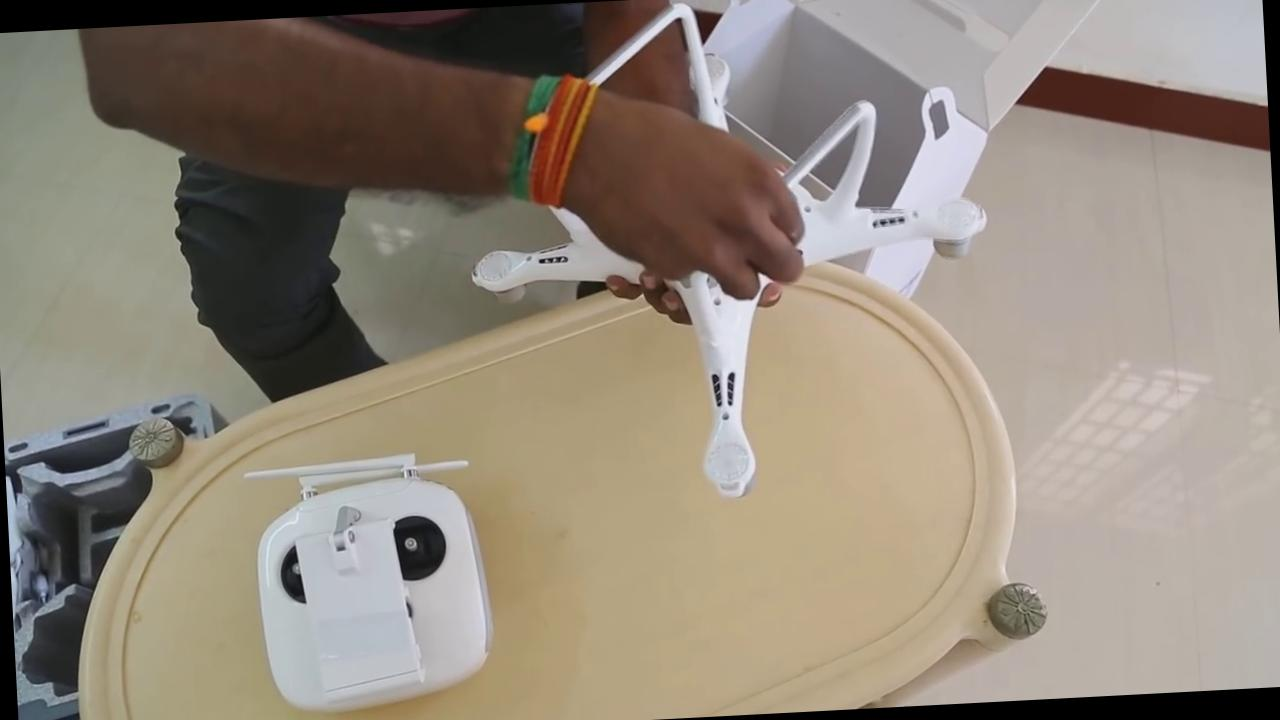drone: (424, 14, 1023, 516)
